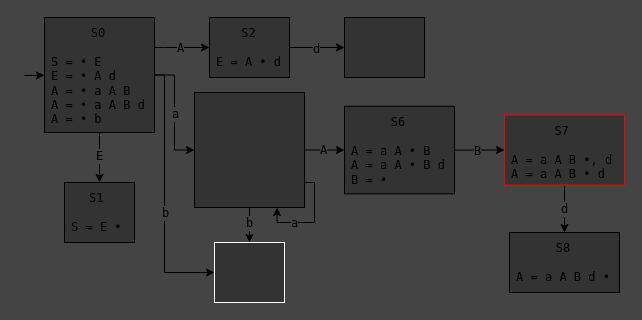
This 642x320 diagram has some shape labels left out. The box of each missing label's shape, as (x1, y1, x2, y2) in pixels:
S3 A = a • A B A = a • A B d A = • a A B A = • a A B d A = • b: (194, 92, 304, 208)
S4 A = b •: (214, 242, 284, 302)
S5 E = A d •: (344, 16, 424, 78)
